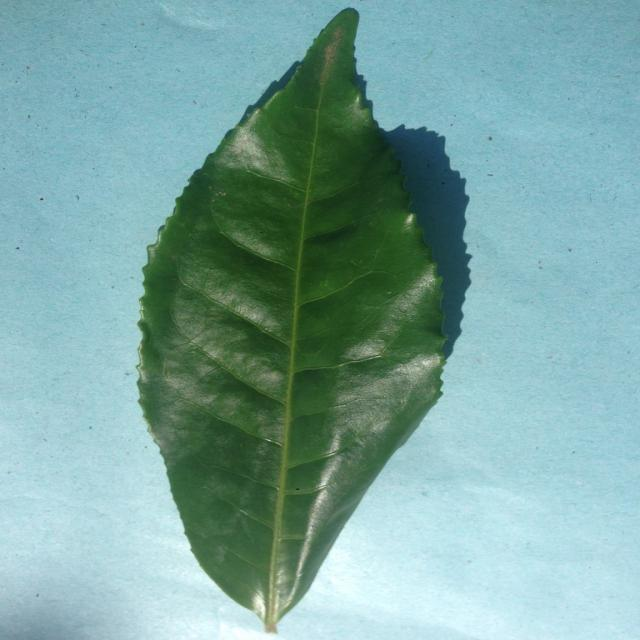Healthy: (125, 3, 456, 635)
